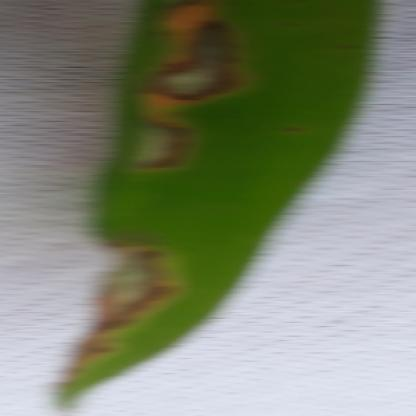Rice blast: (129, 1, 273, 190), (56, 233, 187, 395)
